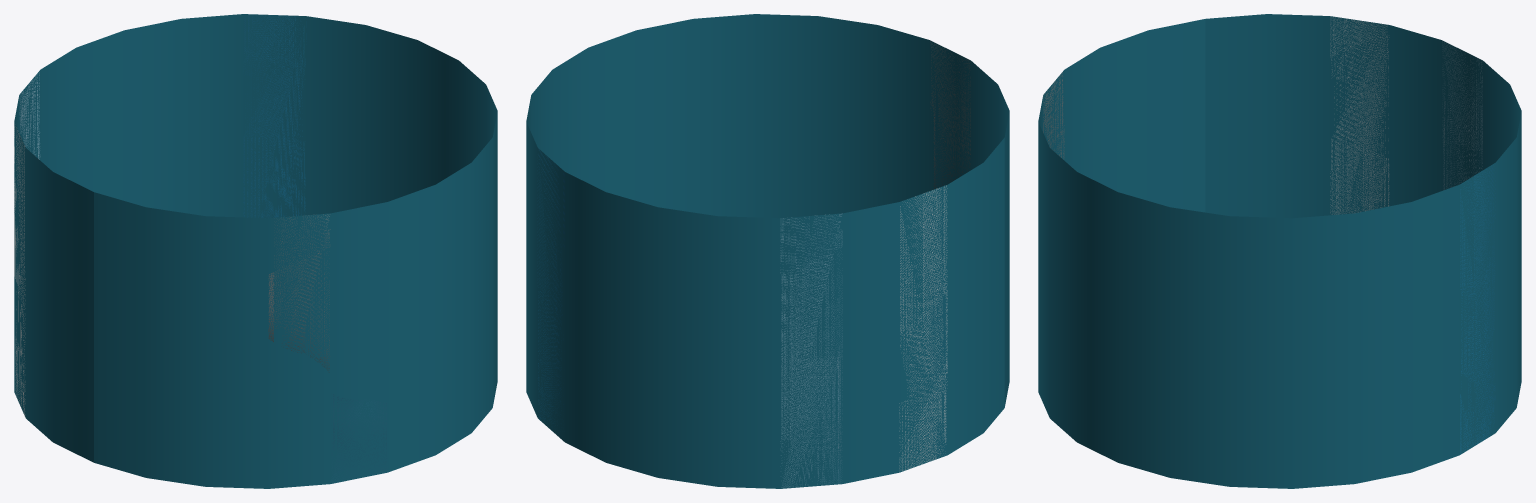
File: original-9.obj
3 renders of one model, left to right at view 1: azimuth 30°, elevation 25°; view 2: azimuth 150°, elevation 25°; view 3: azimuth 270°, elevation 25°, orthographic.
Visible parts, largest first — view 1: #ID101; view 2: #ID101; view 3: #ID101.
Part boxes in pixels (box(x1,y1,x2,y2)): #ID101: box(14, 14, 497, 488); #ID101: box(526, 14, 1009, 488); #ID101: box(1038, 14, 1521, 488).
Bounding box in the file's own units: 0.0717 × 0.0443 × 0.0717.
2 materials, 1 textured.
